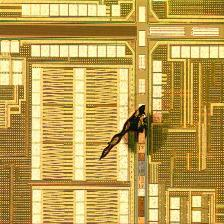PARTICLE: (97, 106, 171, 164)
